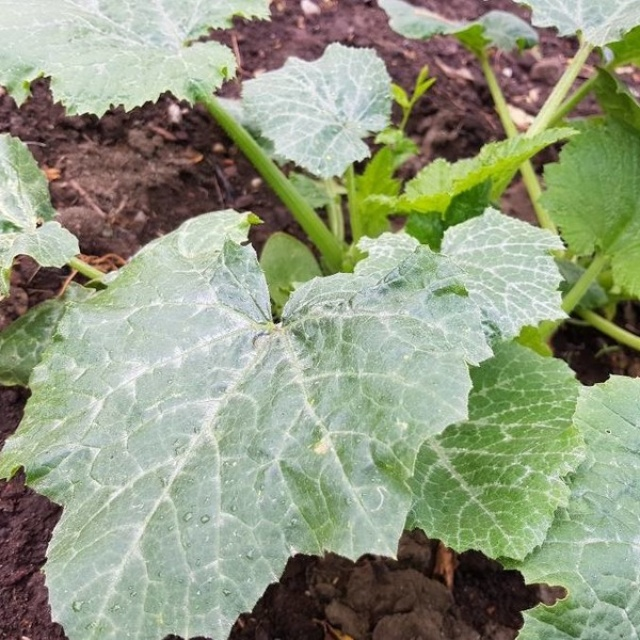obstacle: (53, 162, 623, 594)
